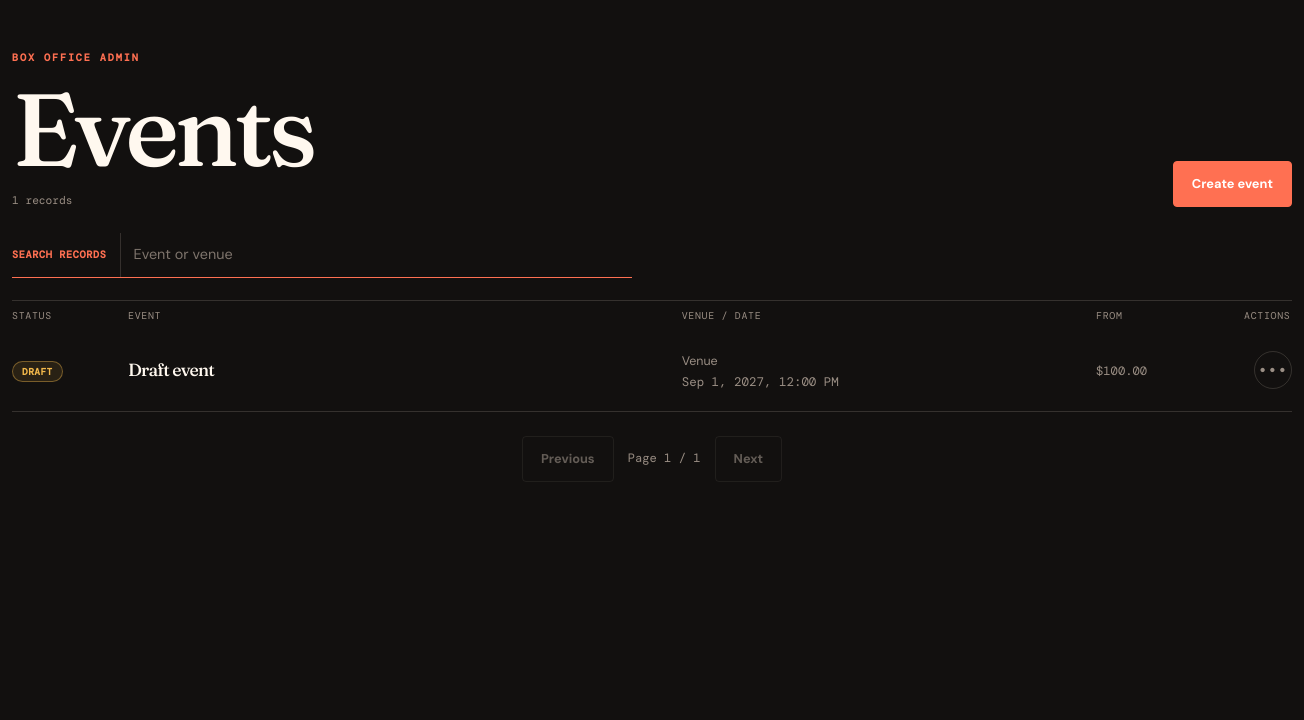
Test: AdminEventsPage › shows the structured lifecycle error code
This screenshot has width=1304, height=720.
Expected: the heading "Draft event" is shown, [128,359,214,380]
Click the button named "Actions for Draft event": (1273, 370) [1254,351,1292,389]
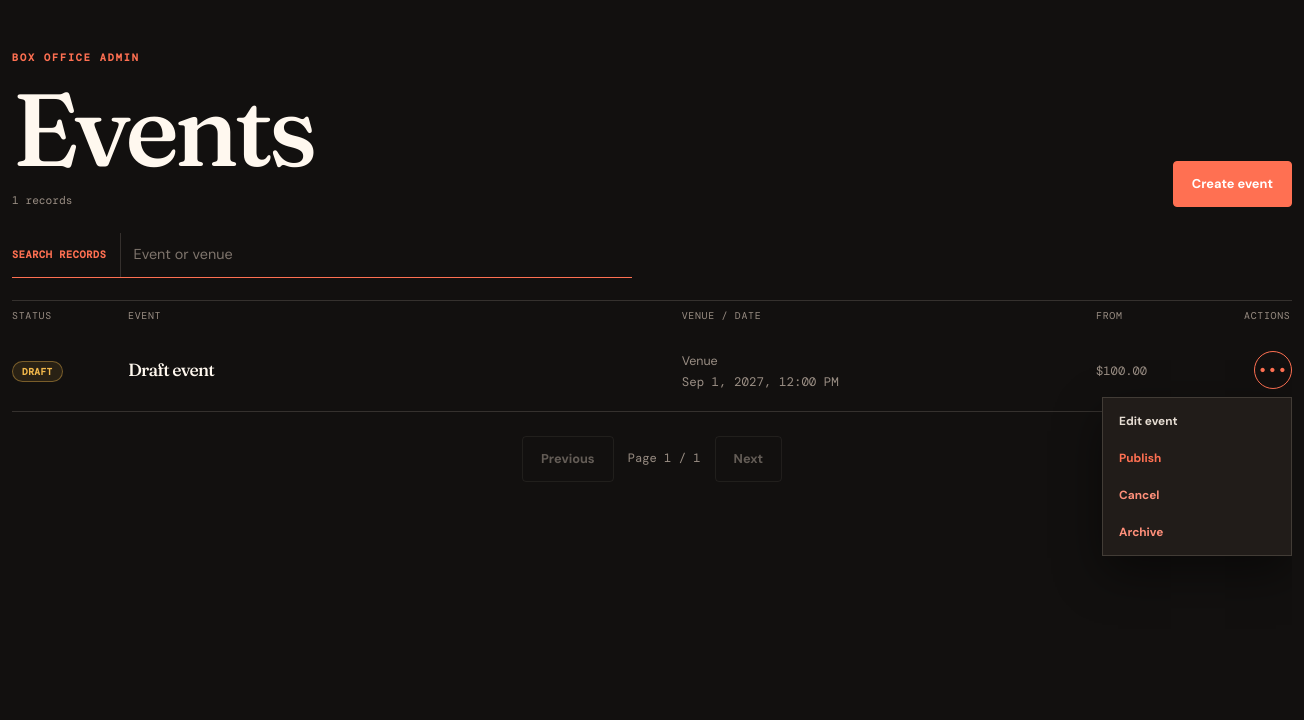
Expected: the button named "Actions for Draft event" is expanded, [1254,351,1292,389]
Click the menu item "Archive": (1197, 532) [1109,515,1285,549]
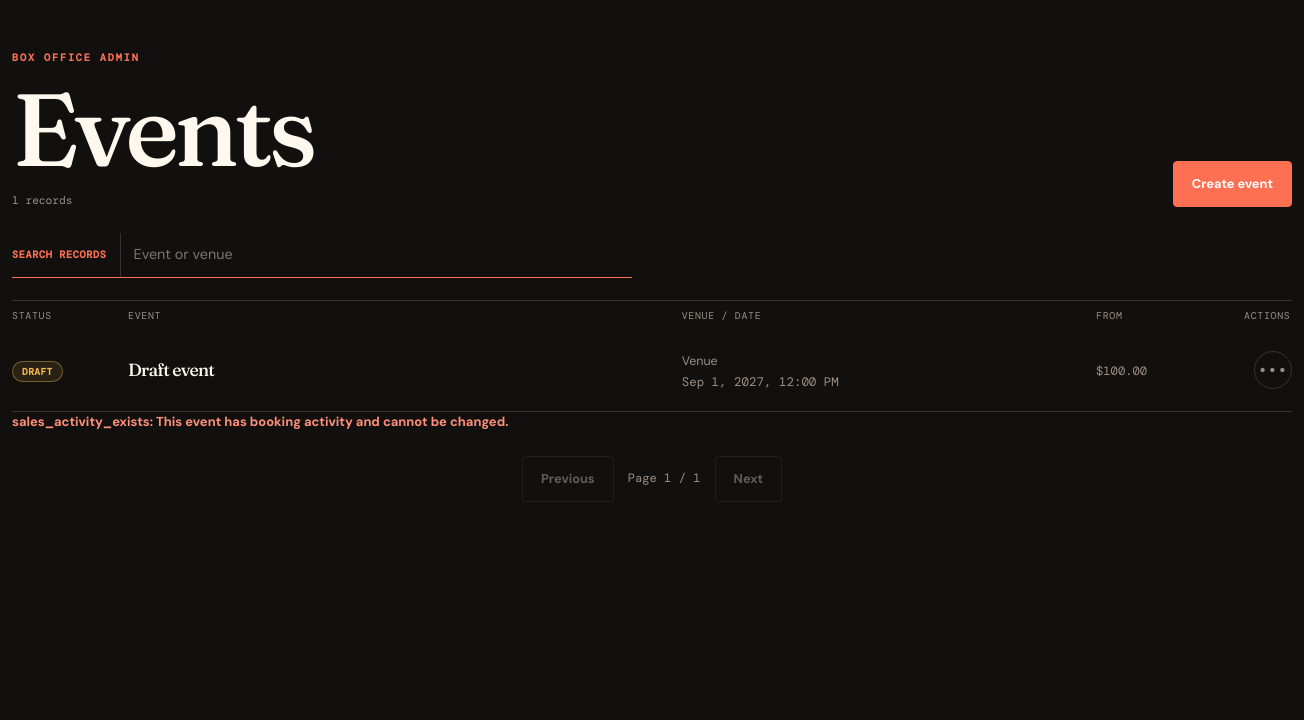
Expected: the message reads "sales_activity_exists: This event has booking activity and cannot be changed.", [12,413,508,430]
